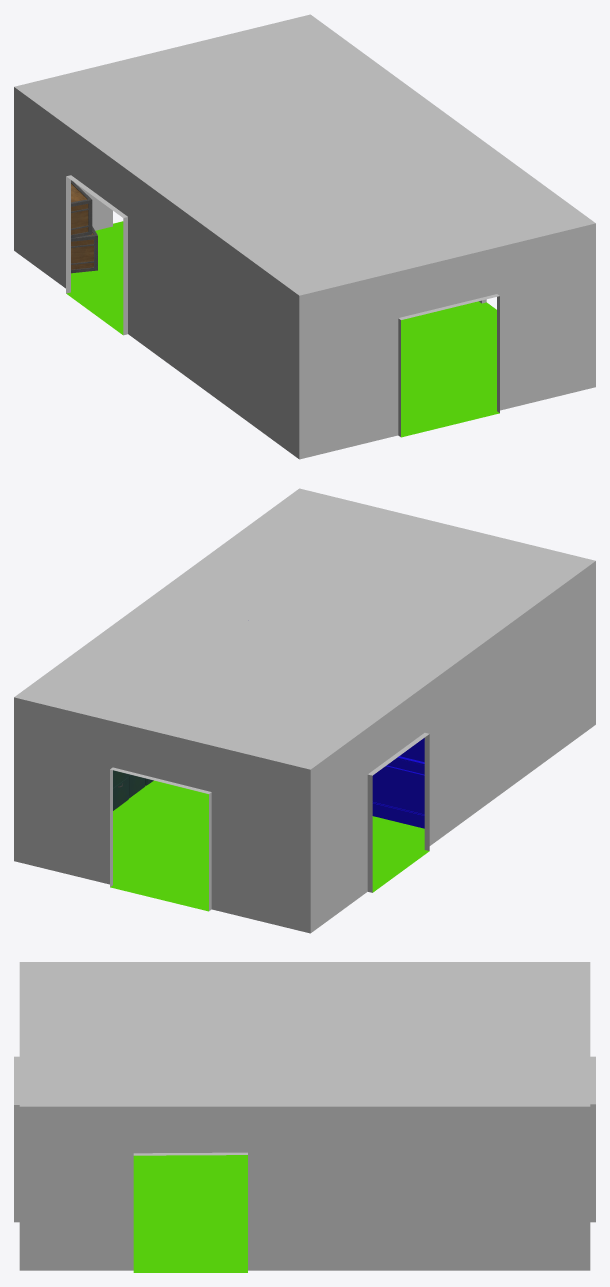
Rendered from roomsB7.fbx.
The picture shows the model from 3 angles, top to bottom: view 1: azimuth 30°, elevation 25°; view 2: azimuth 150°, elevation 25°; view 3: azimuth 270°, elevation 25°; orthographic projection.
Visible parts, largest first — view 1: Plane.024, Plane.022, Plane.023, Cube.254, Cube.255; view 2: Plane.024, Plane.022, Plane.023, Cube.244; view 3: Plane.022, Plane.024, Plane.023.
Boxes of the visible parts, left/top/right/bottom form: Plane.024: left=14, top=14, right=595, bottom=295; Plane.022: left=14, top=87, right=595, bottom=459; Plane.023: left=66, top=221, right=499, bottom=437; Cube.254: left=71, top=180, right=92, bottom=238; Cube.255: left=71, top=226, right=97, bottom=273; Plane.024: left=14, top=488, right=595, bottom=769; Plane.022: left=14, top=561, right=595, bottom=933; Plane.023: left=110, top=780, right=429, bottom=911; Cube.244: left=372, top=738, right=424, bottom=828; Plane.022: left=14, top=1056, right=595, bottom=1270; Plane.024: left=19, top=962, right=590, bottom=1106; Plane.023: left=133, top=1155, right=247, bottom=1272.
Size of the model in its own units: 620 by 317 by 1020.
